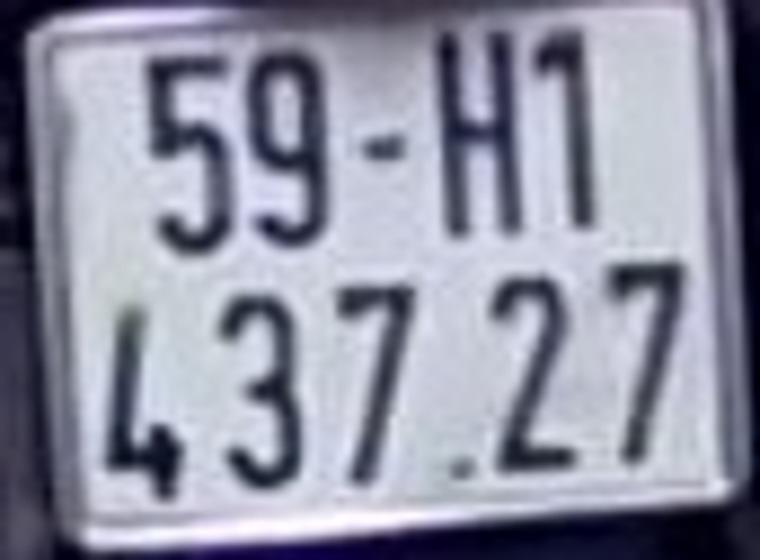-: (361, 127, 409, 168)
.: (446, 458, 480, 487)
1: (534, 26, 603, 236)
2: (486, 269, 585, 476)
3: (211, 294, 308, 487)
4: (100, 309, 188, 498)
5: (139, 51, 241, 256)
7: (333, 274, 416, 489), (604, 261, 688, 468)
9: (246, 51, 333, 247)
H: (433, 20, 525, 235)
